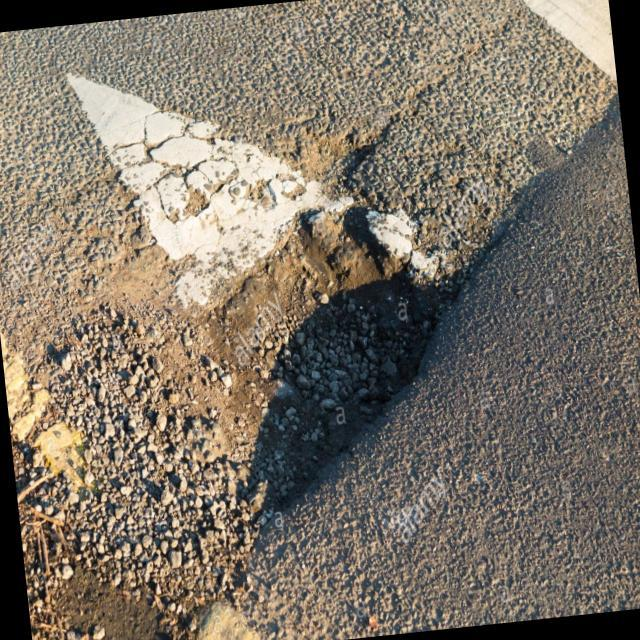Pothole: (0, 212, 501, 640)
